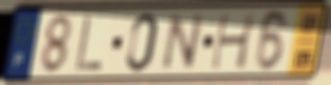0: (124, 12, 159, 74)
6: (252, 8, 293, 74)
8: (39, 13, 75, 76)
H: (208, 11, 257, 72)
L: (73, 15, 105, 73)
N: (158, 12, 208, 73)
